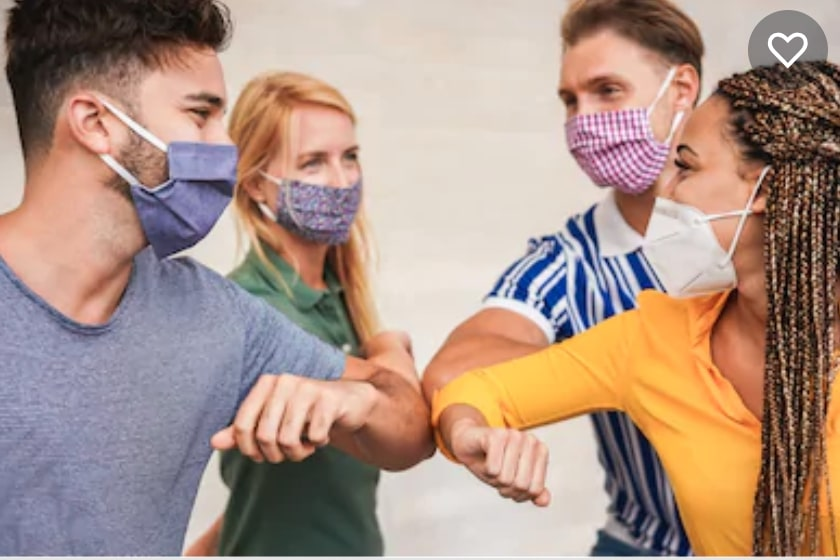Bad: (2, 2, 421, 556), (427, 1, 839, 555), (236, 2, 664, 279)
